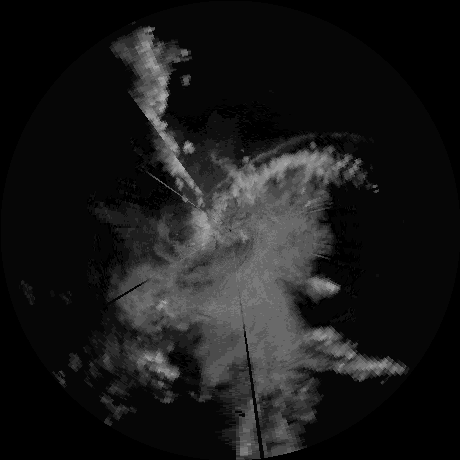frontgust: (214, 132, 314, 192)
